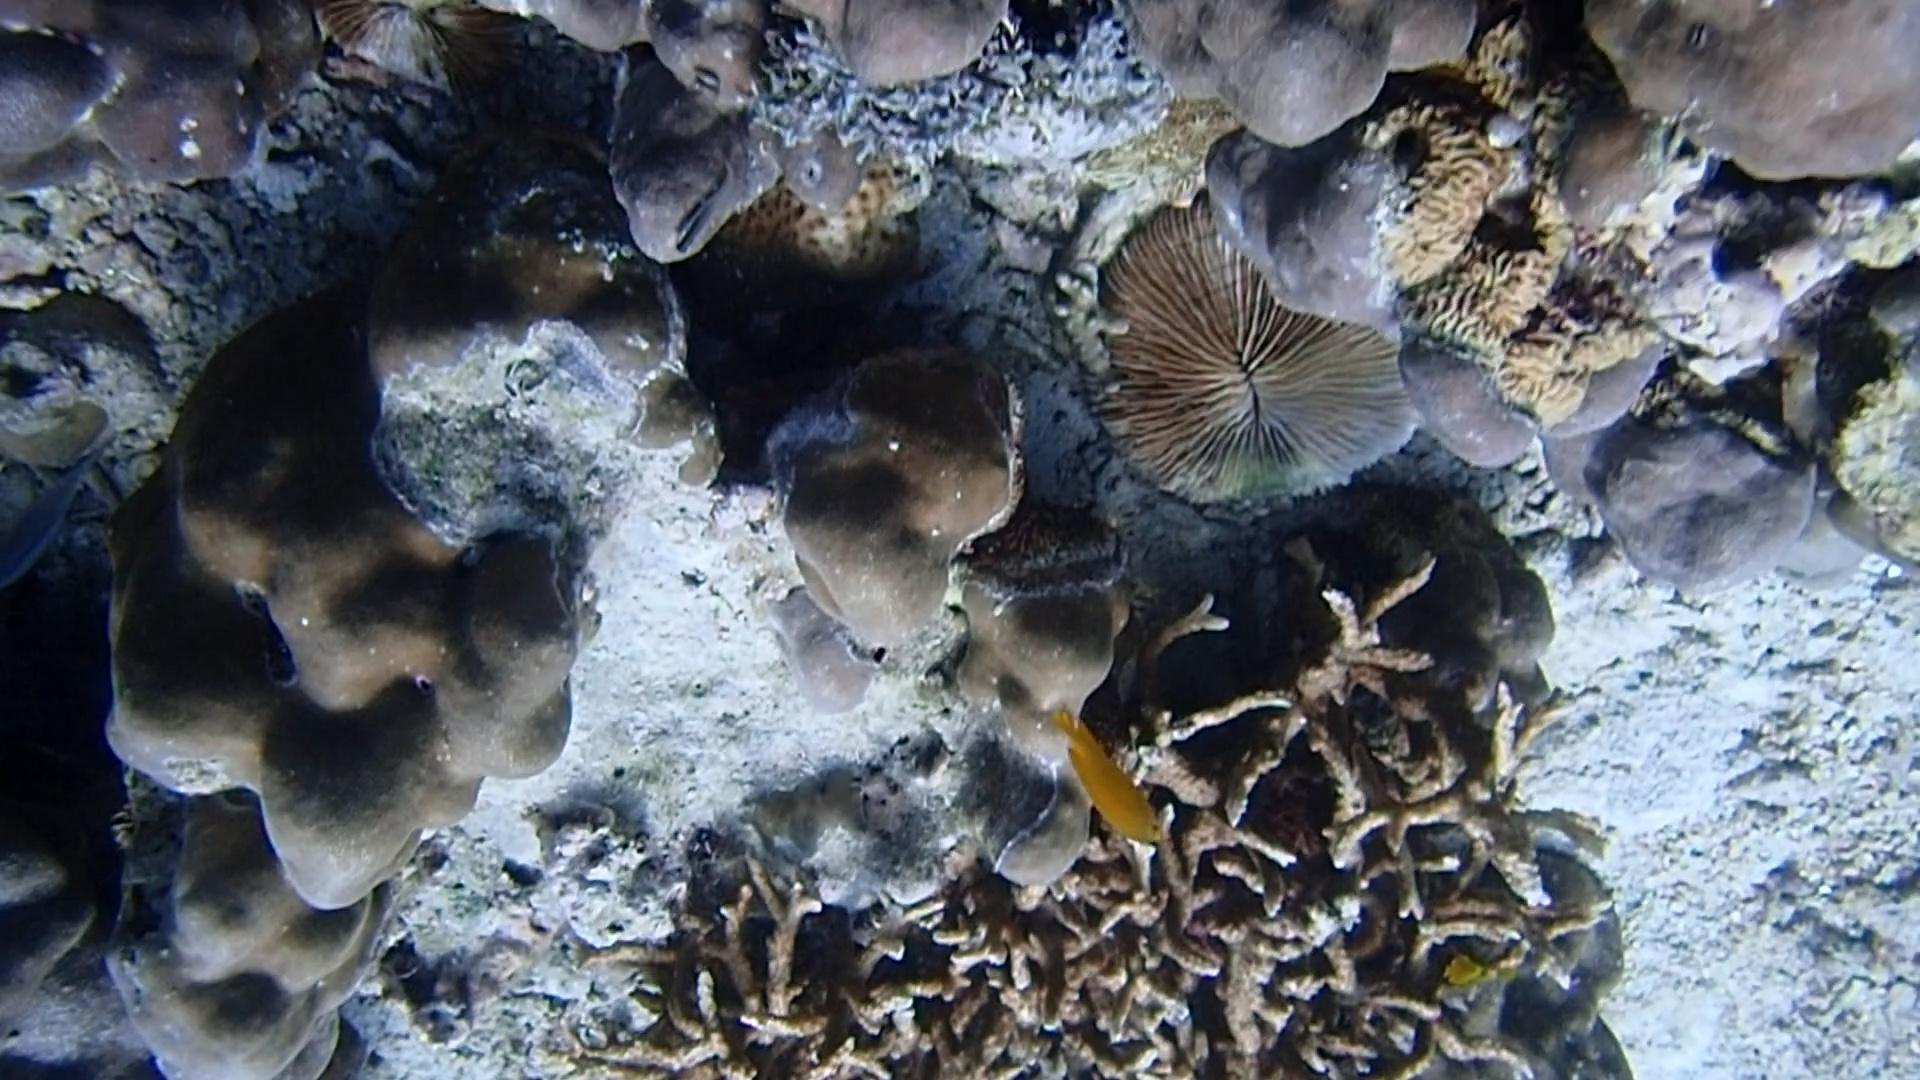Yellow Fish: (1046, 695, 1170, 855), (1433, 948, 1489, 993)
